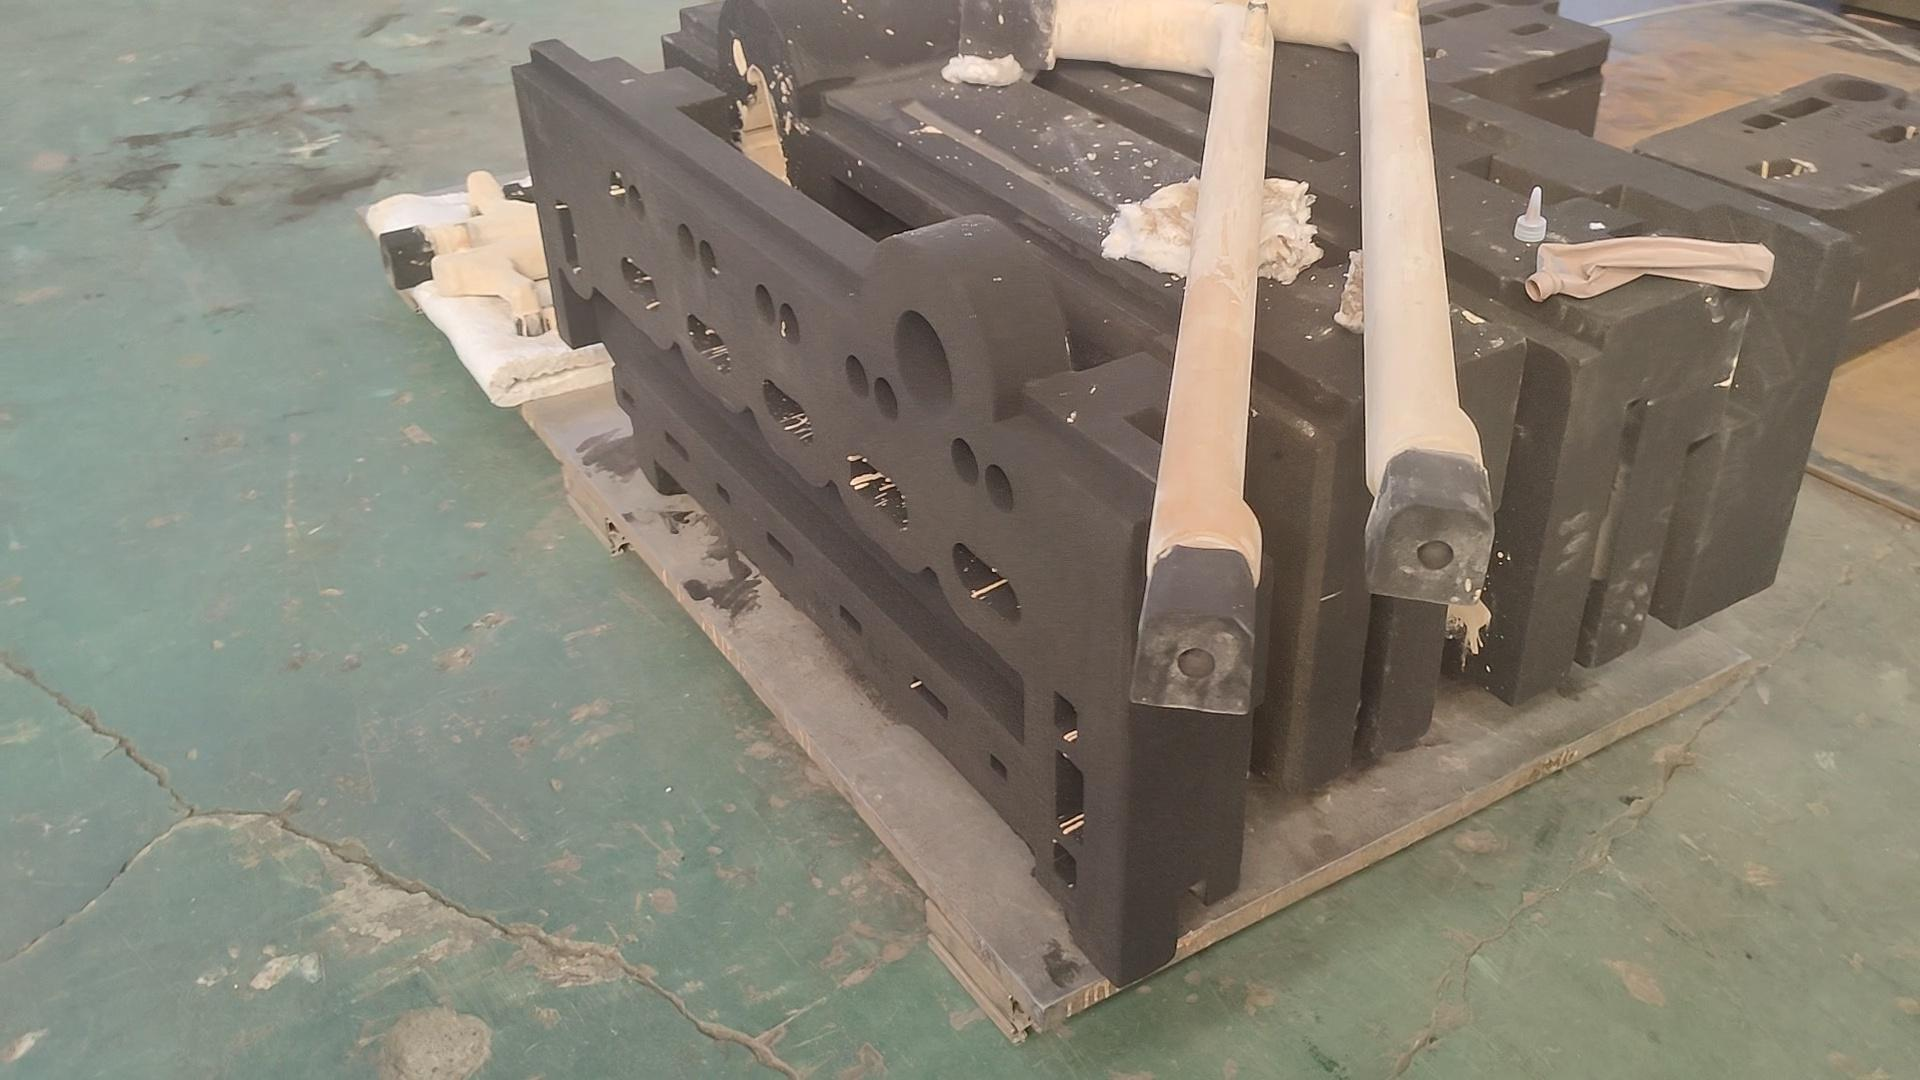pouring hole: (895, 310, 957, 417), (1825, 75, 1888, 102)
